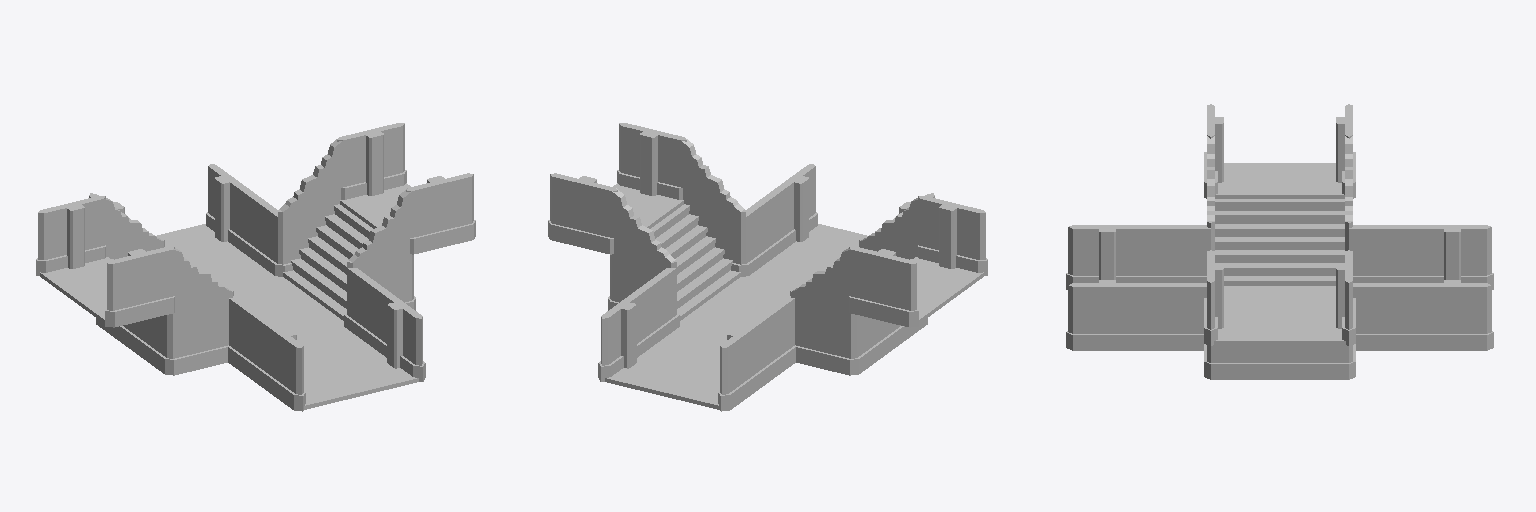
File: intersection_4way_stair_01.obj
3 views of the same model, side by side, from view 1: azimuth 30°, elevation 25°; view 2: azimuth 150°, elevation 25°; view 3: azimuth 270°, elevation 25° (orthographic).
Visible parts, largest first — view 1: stairs_01_102, stairs_01_104, floor_01_100, wall_02_114, wall_02_113, wall_02_117, wall_02_118, floor_01_73, floor_01_99, wall_02_116, wall_02_112, wall_02_111 (+5 smaller); view 2: stairs_01_102, stairs_01_104, floor_01_99, wall_02_117, wall_02_118, wall_02_114, wall_02_113, floor_01_73, floor_01_100, wall_02_115, wall_02_111, wall_02_112 (+5 smaller); view 3: stairs_01_104, stairs_01_102, wall_02_111, wall_02_112, floor_04_105, wall_02_115, wall_02_116, wall_01_109, wall_01_110, floor_04_106, wall_01_107, wall_01_108 (+5 smaller).
Boxes of the visible parts, x1=… form: stairs_01_102: x1=275, y1=137, x2=415, y2=321; stairs_01_104: x1=96, y1=198, x2=233, y2=375; floor_01_100: x1=297, y1=328, x2=418, y2=409; wall_02_114: x1=105, y1=246, x2=174, y2=327; wall_02_113: x1=406, y1=173, x2=475, y2=254; wall_02_117: x1=36, y1=196, x2=105, y2=275; wall_02_118: x1=337, y1=123, x2=406, y2=199; floor_01_73: x1=229, y1=277, x2=345, y2=339; floor_01_99: x1=156, y1=224, x2=277, y2=288; wall_02_116: x1=259, y1=320, x2=305, y2=411; wall_02_112: x1=379, y1=291, x2=425, y2=381; wall_02_111: x1=206, y1=164, x2=249, y2=250; stairs_01_102: x1=608, y1=137, x2=748, y2=320; stairs_01_104: x1=790, y1=198, x2=927, y2=375; floor_01_99: x1=605, y1=325, x2=726, y2=409; wall_02_117: x1=849, y1=246, x2=918, y2=327; wall_02_118: x1=548, y1=173, x2=617, y2=254; wall_02_114: x1=918, y1=196, x2=987, y2=275; wall_02_113: x1=617, y1=123, x2=686, y2=199; floor_01_73: x1=678, y1=276, x2=791, y2=339; floor_01_100: x1=747, y1=224, x2=867, y2=288; wall_02_115: x1=718, y1=320, x2=764, y2=411; wall_02_111: x1=598, y1=291, x2=644, y2=381; wall_02_112: x1=774, y1=164, x2=817, y2=250; stairs_01_104: x1=1207, y1=134, x2=1352, y2=286; stairs_01_102: x1=1204, y1=252, x2=1355, y2=379; wall_02_111: x1=1415, y1=280, x2=1493, y2=350; wall_02_112: x1=1066, y1=280, x2=1142, y2=350; floor_04_105: x1=1214, y1=308, x2=1345, y2=344; wall_02_115: x1=1417, y1=225, x2=1493, y2=289; wall_02_116: x1=1066, y1=225, x2=1144, y2=289; wall_01_109: x1=1138, y1=283, x2=1206, y2=350; wall_01_110: x1=1353, y1=283, x2=1421, y2=350; floor_04_106: x1=1215, y1=163, x2=1344, y2=198; wall_01_107: x1=1345, y1=225, x2=1420, y2=282; wall_01_108: x1=1138, y1=225, x2=1214, y2=282.
Bounding box in the file's own units: 6.21 × 2 × 6.21.